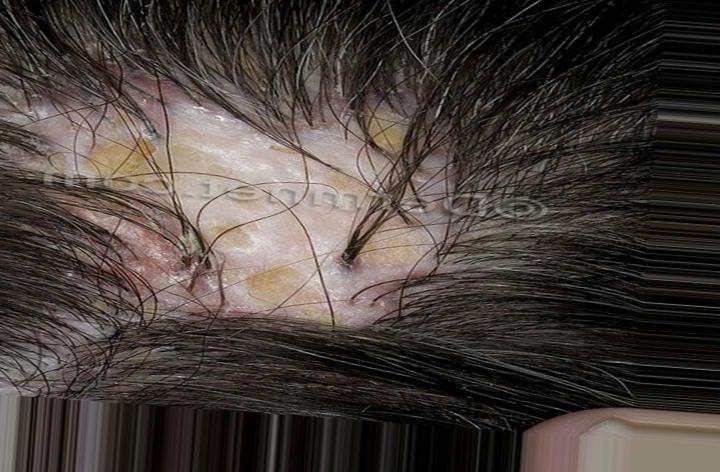Folliculitis: (57, 98, 437, 325)
